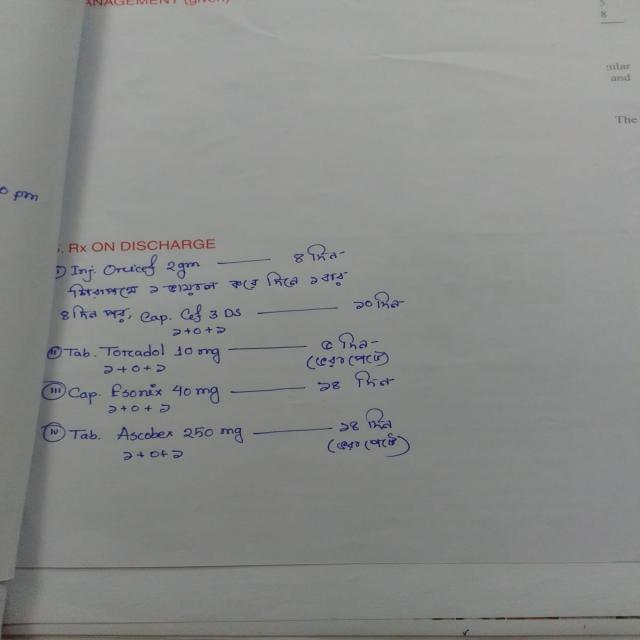Ascobex: (111, 422, 181, 446)
Cef-3 DS: (176, 306, 246, 323)
Esonix M: (105, 380, 169, 402)
Oricef: (99, 255, 167, 283)
Toradol: (100, 342, 168, 363)
